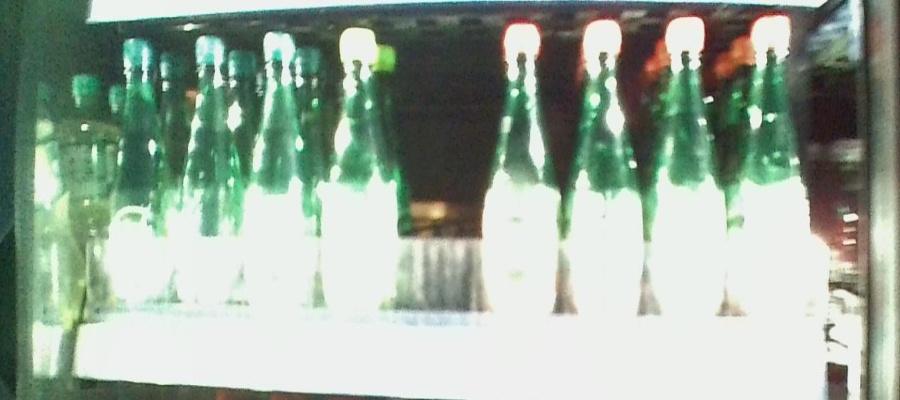bottle: (733, 9, 811, 344), (649, 14, 729, 340), (565, 11, 643, 338), (481, 17, 560, 333), (318, 21, 391, 328), (244, 24, 310, 323), (111, 31, 173, 319), (178, 40, 238, 316)
